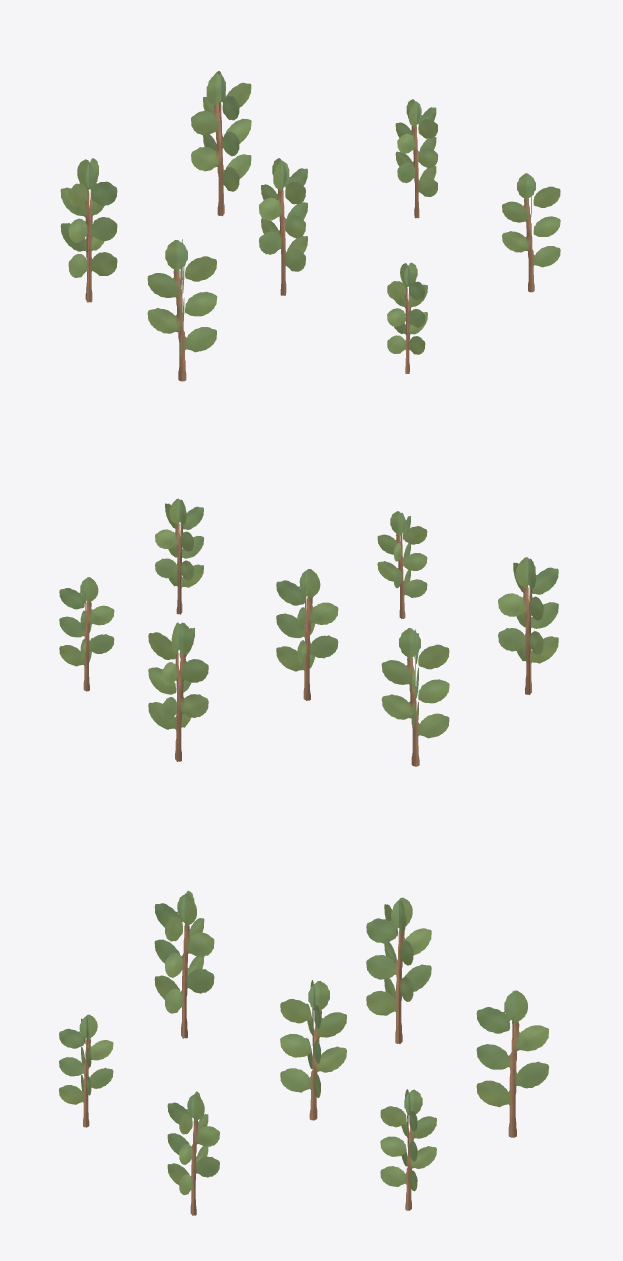
The model's file is crop_blueberry_1.glb.
3 renders of one model, top to bottom at view 1: azimuth 30°, elevation 25°; view 2: azimuth 150°, elevation 25°; view 3: azimuth 270°, elevation 25°, orthographic. The views are drawn at different scales.
Visible parts, largest first — view 1: crop_blueberry_1; view 2: crop_blueberry_1; view 3: crop_blueberry_1.
Boxes of the visible parts, box(x1,y1,x2,y2) form: crop_blueberry_1: box(60, 71, 560, 381); crop_blueberry_1: box(59, 498, 558, 766); crop_blueberry_1: box(59, 890, 549, 1215).
Size of the model in its own units: 0.6695 by 0.2269 by 0.7023.
1 material, 1 textured.
